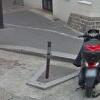Motorcycle: (73, 24, 100, 100)
